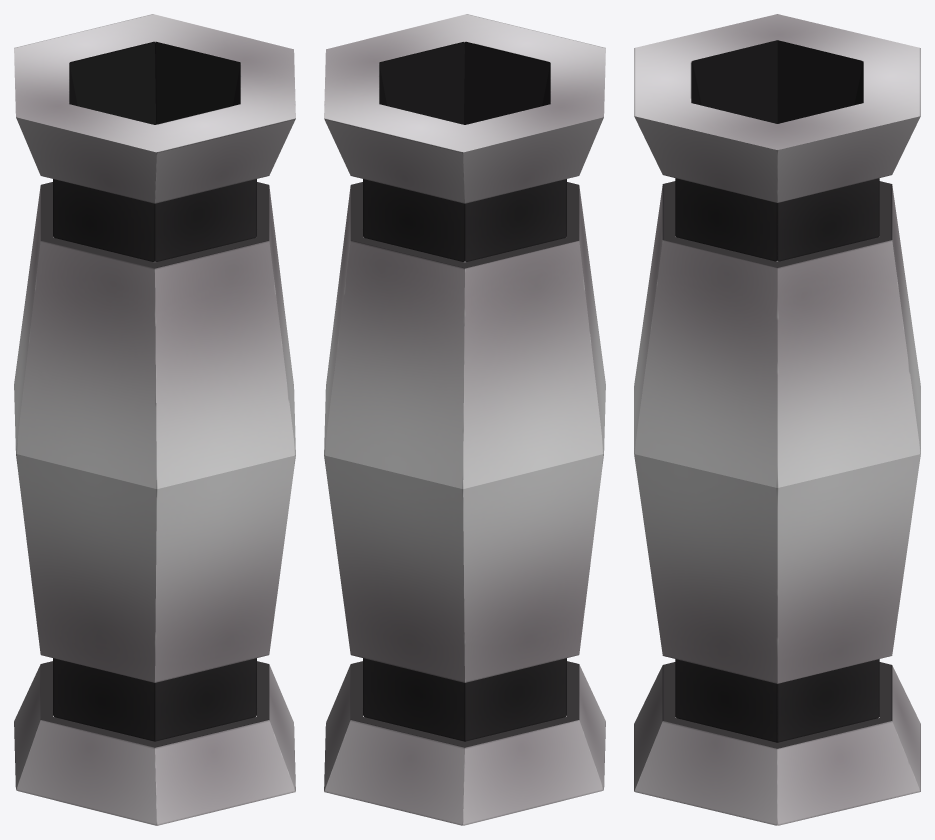
The model's file is cannonModel.fbx.
3 views of the same model, side by side, from view 1: azimuth 30°, elevation 25°; view 2: azimuth 150°, elevation 25°; view 3: azimuth 270°, elevation 25° (orthographic).
Visible parts, largest first — view 1: cylinder; view 2: cylinder; view 3: cylinder.
Boxes of the visible parts, left/top/right/bottom form: cylinder: left=14, top=14, right=295, bottom=825; cylinder: left=324, top=14, right=605, bottom=825; cylinder: left=634, top=14, right=920, bottom=825.
Bounding box in the file's own units: 140 × 325 × 125.
Materials: 1 (1 with a texture image).
